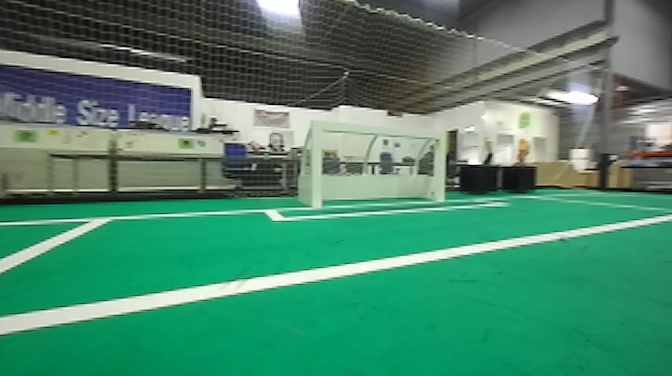goalpost: (428, 127, 444, 208), (309, 120, 323, 210)
